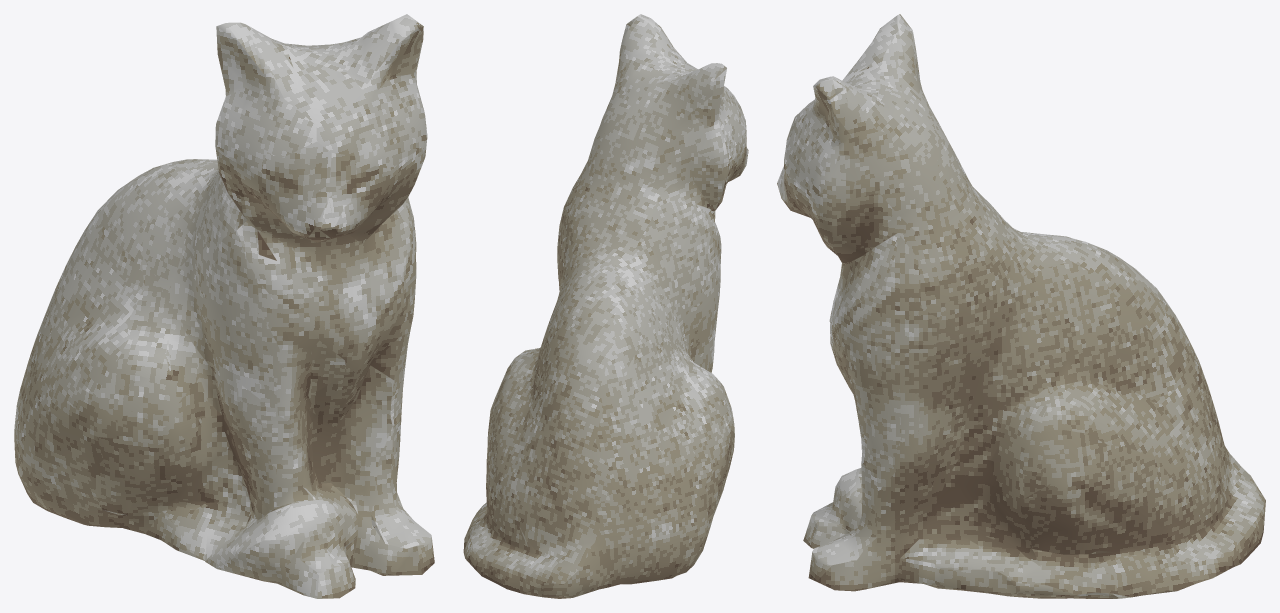
Rendered from cat_statue.glb.
3 renders of one model, left to right at view 1: azimuth 30°, elevation 25°; view 2: azimuth 150°, elevation 25°; view 3: azimuth 270°, elevation 25°, orthographic. The views are drawn at different scales.
Visible parts, largest first — view 1: mesh; view 2: mesh; view 3: mesh.
Boxes of the visible parts, <box> form: mesh: <box>14,14,434,598</box>; mesh: <box>463,14,748,598</box>; mesh: <box>777,14,1265,598</box>.
Size of the model in its own units: 10.81 by 20 by 17.65.
1 material, 1 textured.
